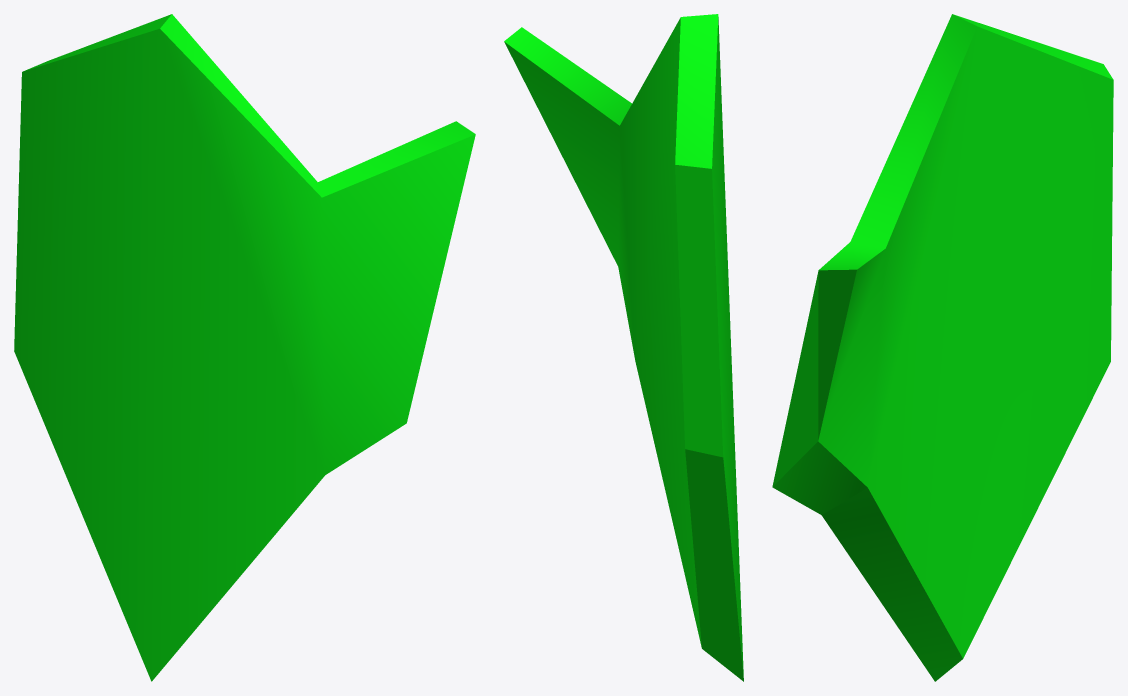
File: metal_piece_F.FBX
3 renders of one model, left to right at view 1: azimuth 30°, elevation 25°; view 2: azimuth 150°, elevation 25°; view 3: azimuth 270°, elevation 25°, orthographic. The views are drawn at different scales.
Parts seen in each view (by area): view 1: metal_piece_F; view 2: metal_piece_F; view 3: metal_piece_F.
Part boxes in pixels (<box>): metal_piece_F: <box>14,14,475,681</box>; metal_piece_F: <box>504,14,743,681</box>; metal_piece_F: <box>772,14,1113,681</box>.
Bounding box in the file's own units: 1.44 × 2.7 × 1.23.
